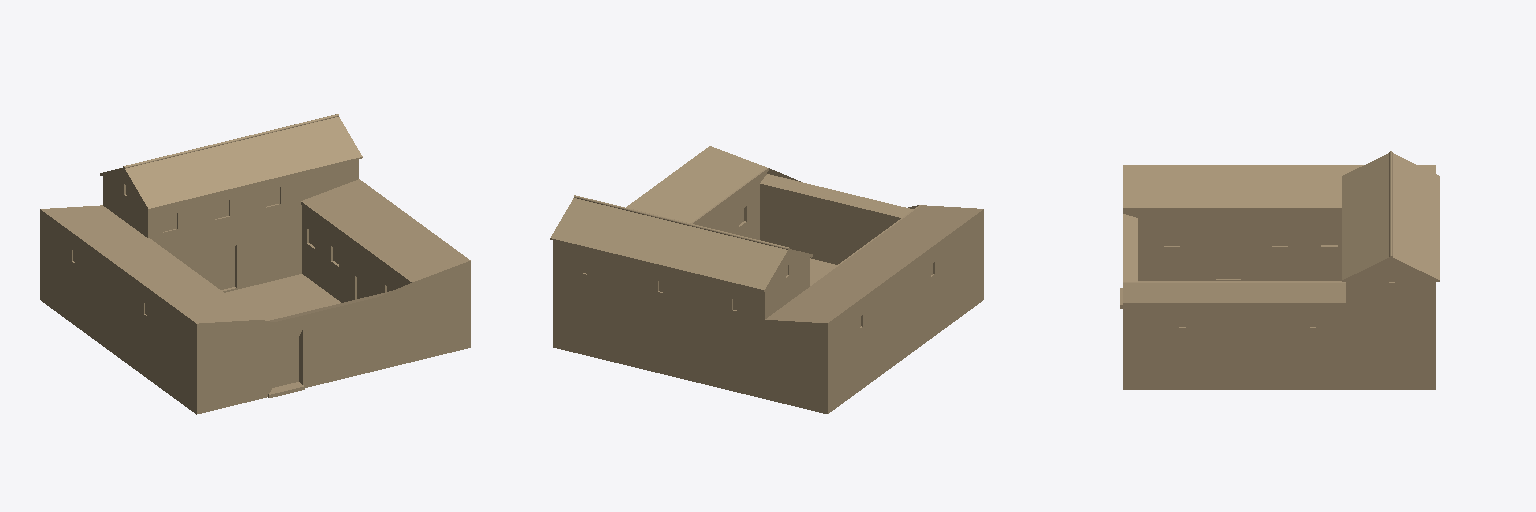
File: house.obj
3 views of the same model, side by side, from view 1: azimuth 30°, elevation 25°; view 2: azimuth 150°, elevation 25°; view 3: azimuth 270°, elevation 25° (orthographic).
Parts seen in each view (by area): view 1: Mesh1 Group1 Model; view 2: Mesh1 Group1 Model; view 3: Mesh1 Group1 Model.
Part boxes in pixels (left/top/right/bottom): Mesh1 Group1 Model: left=40, top=114, right=470, bottom=414; Mesh1 Group1 Model: left=550, top=146, right=983, bottom=413; Mesh1 Group1 Model: left=1120, top=151, right=1439, bottom=389.
Size of the model in its own units: 12243 by 5749 by 12302.